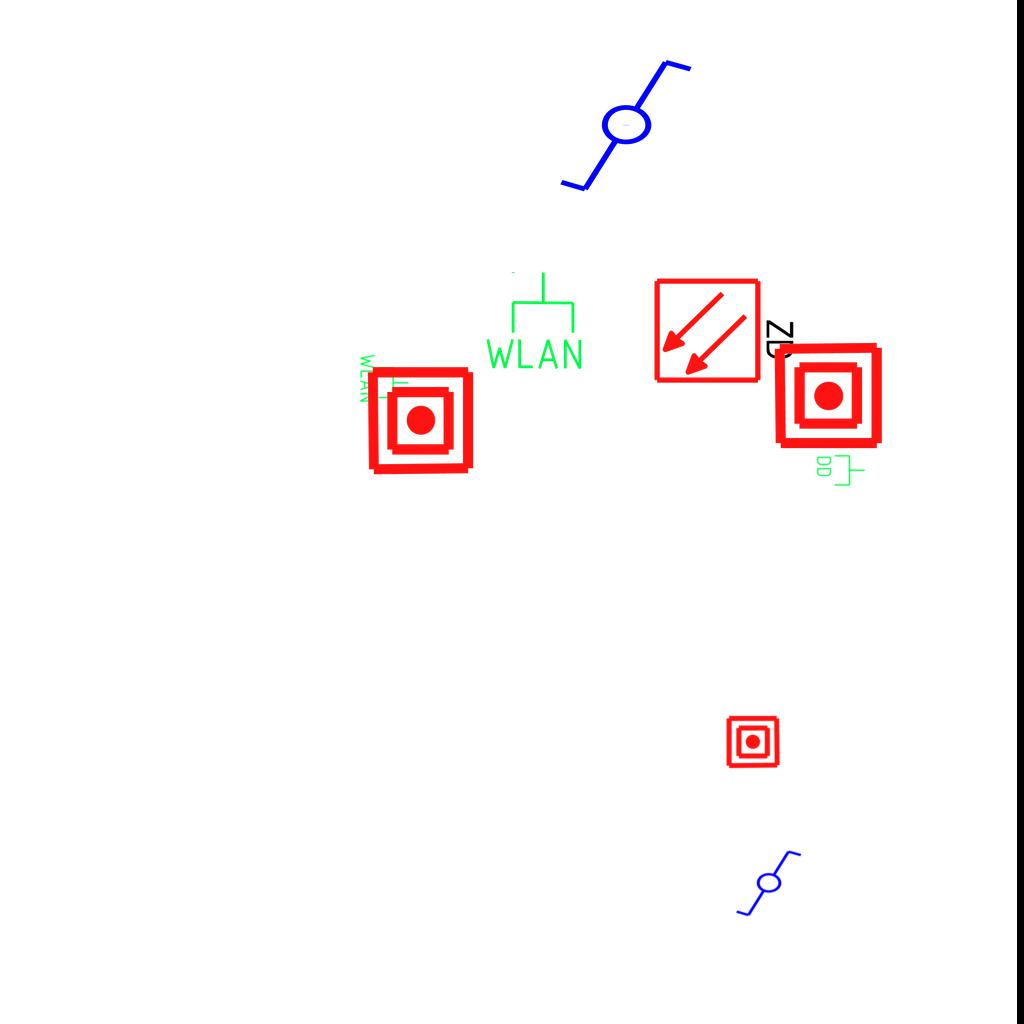Datenanschluss_zweifach: (815, 453, 866, 487)
NAM-Nichtautomatischer_Melder: (772, 339, 885, 452), (364, 364, 477, 477), (725, 714, 781, 770)
WLAN: (481, 269, 586, 373), (358, 352, 410, 404)
Wechselschalter: (556, 55, 713, 199), (734, 848, 812, 920)
ZD_Melder_in_Zwischendecke_mit_Revisionsoeffnung_mind_40_x_40_cm: (652, 272, 801, 386)
